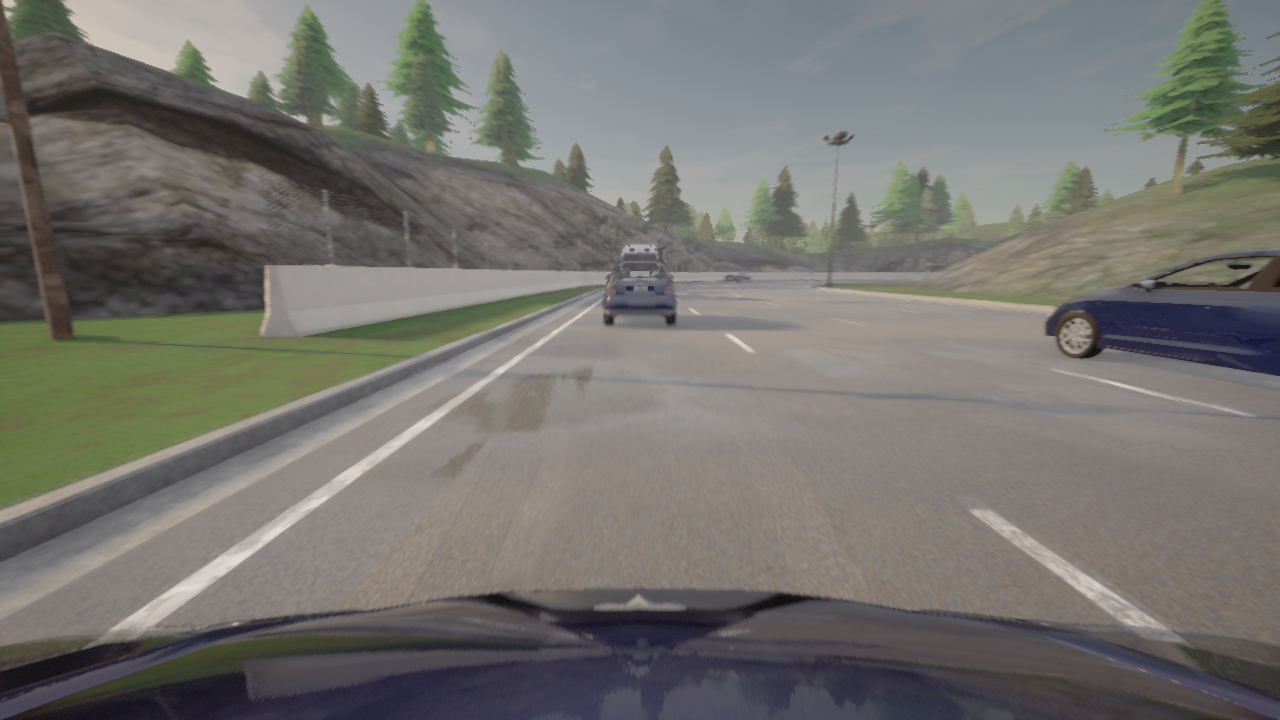cyclist: (0, 588, 1279, 719), (1044, 248, 1279, 376), (603, 259, 676, 324), (621, 244, 658, 259), (724, 271, 752, 283), (657, 245, 669, 266)
